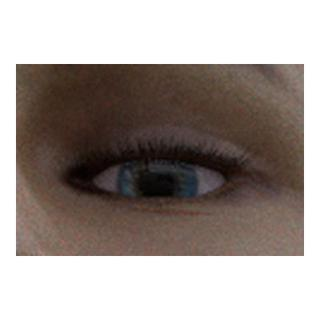pupil: (139, 169, 173, 202)
